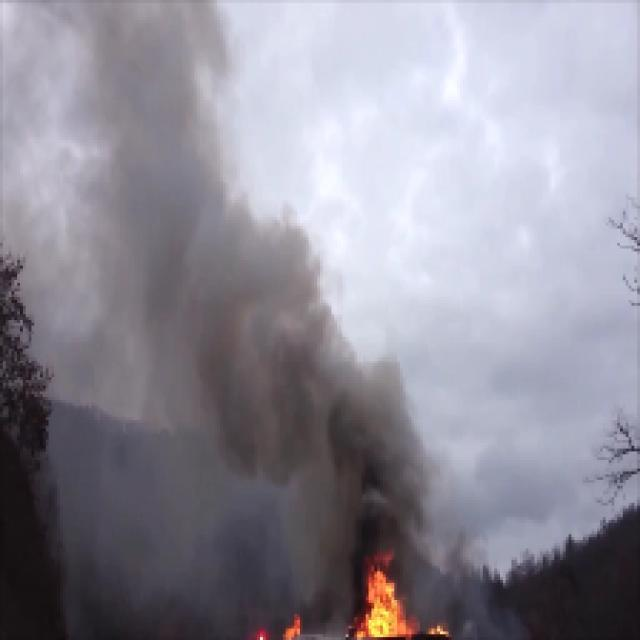Fire: (358, 559, 413, 640)
Smoke: (18, 0, 241, 613), (252, 222, 420, 537)
